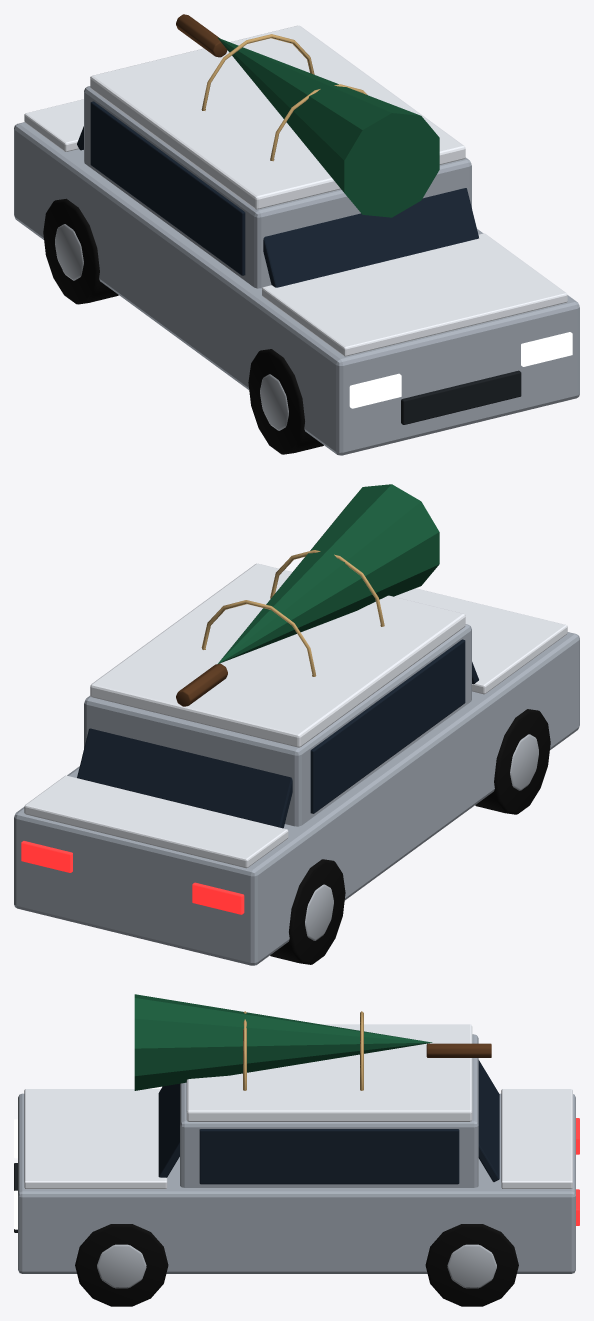
File: car_silver.glb
3 views of the same model, one above another, from view 1: azimuth 30°, elevation 25°; view 2: azimuth 150°, elevation 25°; view 3: azimuth 270°, elevation 25° (orthographic). The views are drawn at different scales.
Visible parts, largest first — view 1: car_silver; view 2: car_silver; view 3: car_silver.
Part boxes in pixels (bbox=[...]): car_silver: bbox=[14, 14, 579, 455]; car_silver: bbox=[14, 484, 579, 965]; car_silver: bbox=[14, 994, 579, 1306].
Size of the model in its own units: 1.91 by 2.19 by 4.36.
